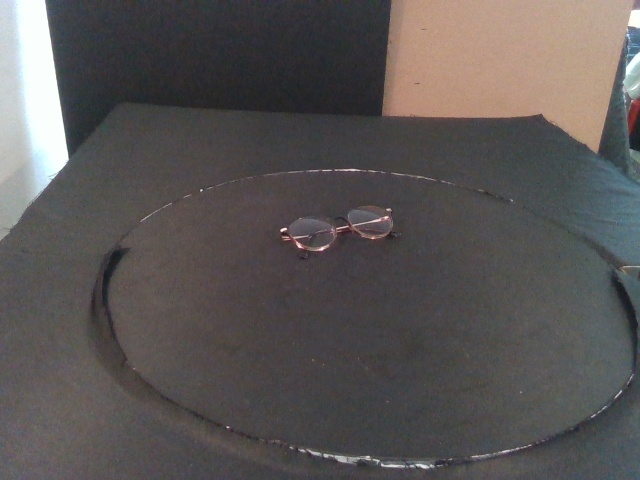glasses: (278, 204, 402, 260)
